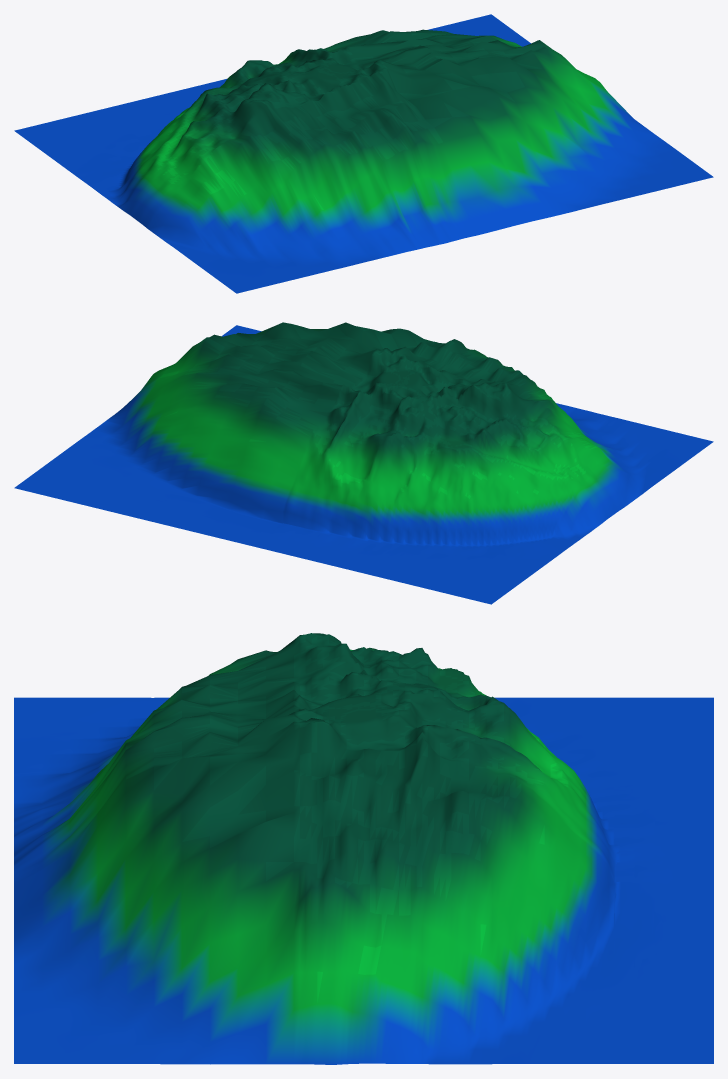
The model's file is arena_headland_ground.glb.
3 views of the same model, one above another, from view 1: azimuth 30°, elevation 25°; view 2: azimuth 150°, elevation 25°; view 3: azimuth 270°, elevation 25° (orthographic). The views are drawn at different scales.
Visible parts, largest first — view 1: arena_headland_ground; view 2: arena_headland_ground; view 3: arena_headland_ground.
Part boxes in pixels (x1,y1,x2,y2): arena_headland_ground: (14, 14, 713, 293); arena_headland_ground: (14, 322, 713, 604); arena_headland_ground: (14, 633, 713, 1064).
Size of what is drawn, in the model's own units: 260 by 53.88 by 210.
